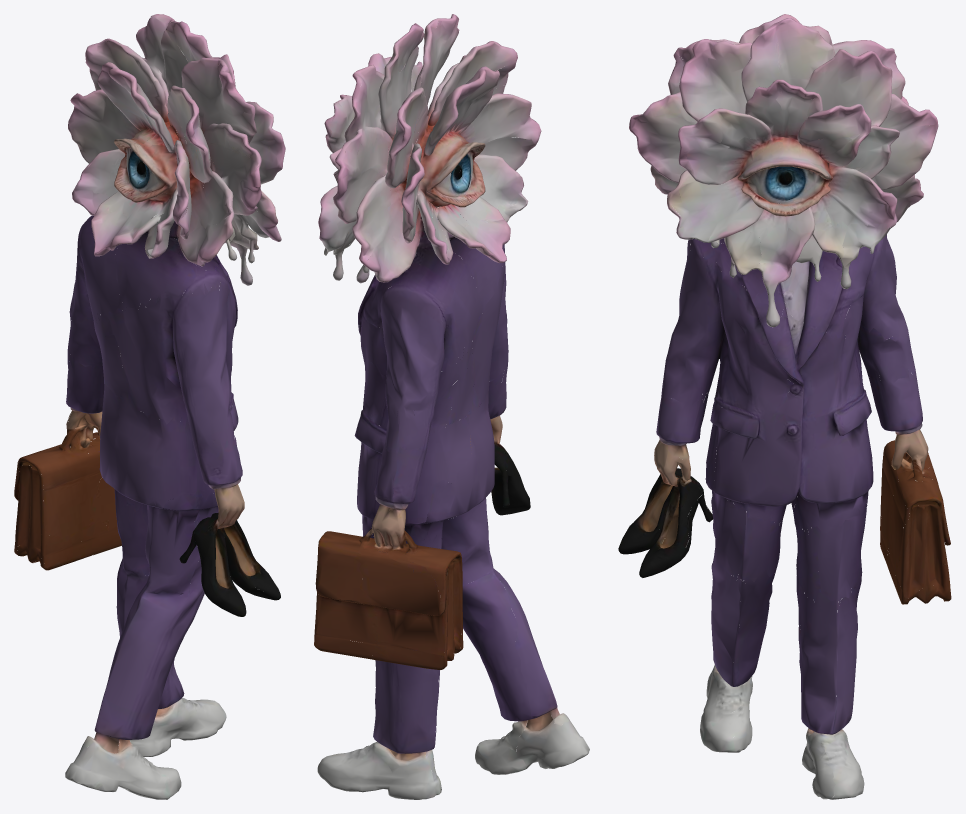
Rendered from workgirl.glb.
The picture shows the model from 3 angles, left to right: view 1: azimuth 30°, elevation 25°; view 2: azimuth 150°, elevation 25°; view 3: azimuth 270°, elevation 25°; orthographic projection. The views are drawn at different scales.
Parts seen in each view (by area): view 1: tripo_node_4dcd1692-ba07-4971-a005-472ad7834de4; view 2: tripo_node_4dcd1692-ba07-4971-a005-472ad7834de4; view 3: tripo_node_4dcd1692-ba07-4971-a005-472ad7834de4.
Boxes of the visible parts, box(x1,y1,x2,y2) form: tripo_node_4dcd1692-ba07-4971-a005-472ad7834de4: box(14, 14, 285, 799); tripo_node_4dcd1692-ba07-4971-a005-472ad7834de4: box(314, 14, 589, 799); tripo_node_4dcd1692-ba07-4971-a005-472ad7834de4: box(618, 14, 951, 799).
Size of the model in its own units: 0.2986 by 1 by 0.3984.
Materials: 1 (1 with a texture image).
